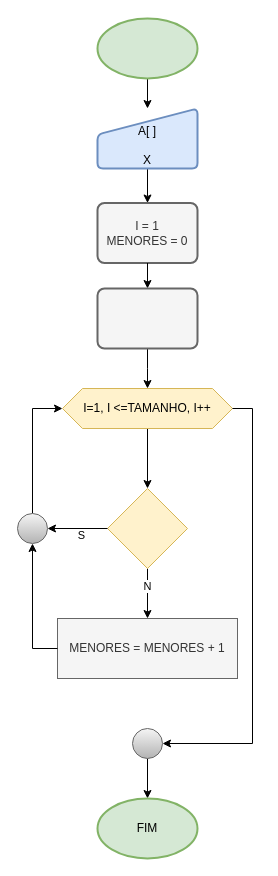
Image size: 278x876. Some labels were removed from this diagram. The box of each missing label's shape, as (x1, y1, x2, y2) in pixels:
A[I] > X: (106, 488, 188, 568)
CALCULA TAMANHO DO VETOR A: (96, 287, 198, 349)
INICIO: (96, 17, 198, 79)
